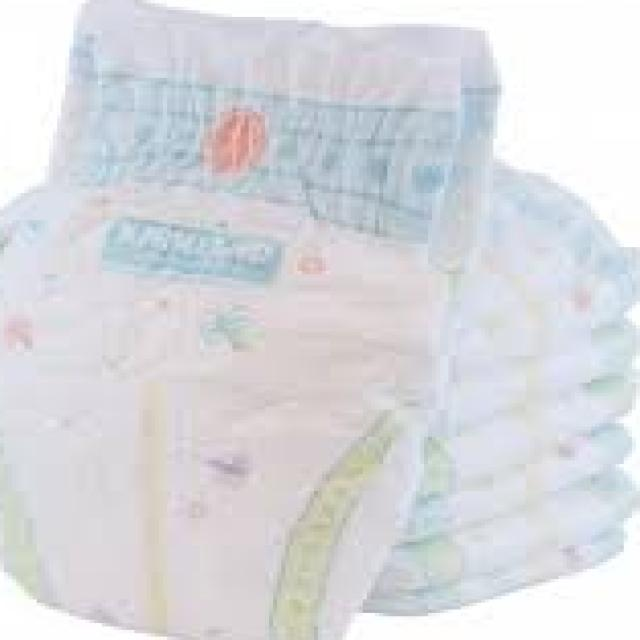organic: (18, 7, 608, 625)
